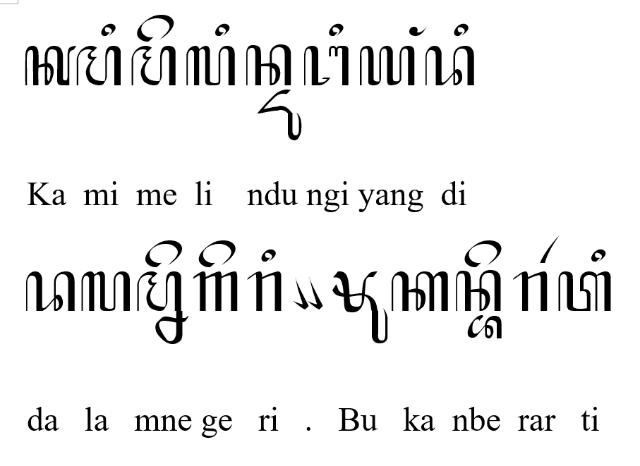Bu: (332, 272, 388, 344)
K: (24, 46, 76, 86)
_b: (467, 314, 503, 340)
_du: (256, 88, 302, 140)
_r1: (540, 236, 560, 264)
d: (425, 46, 475, 86), (25, 272, 75, 312)
e: (136, 14, 174, 42), (144, 240, 182, 268), (198, 240, 236, 268), (464, 240, 502, 268)
g: (192, 272, 238, 312)
i: (260, 247, 276, 262), (100, 23, 116, 37), (328, 23, 344, 37), (590, 248, 606, 262), (216, 22, 230, 36), (454, 23, 468, 37)
k: (391, 272, 449, 312)
kom: (292, 278, 308, 310), (307, 278, 323, 310)
l: (81, 270, 131, 311), (186, 46, 236, 86)
m: (130, 45, 176, 85), (78, 46, 122, 86)
mn: (136, 271, 190, 345)
n: (245, 44, 291, 86), (455, 270, 501, 311)
ng: (409, 26, 426, 36)
nga: (303, 46, 349, 86)
r: (247, 272, 283, 312), (512, 272, 548, 312)
t: (558, 272, 612, 312)
y: (359, 44, 415, 86)
